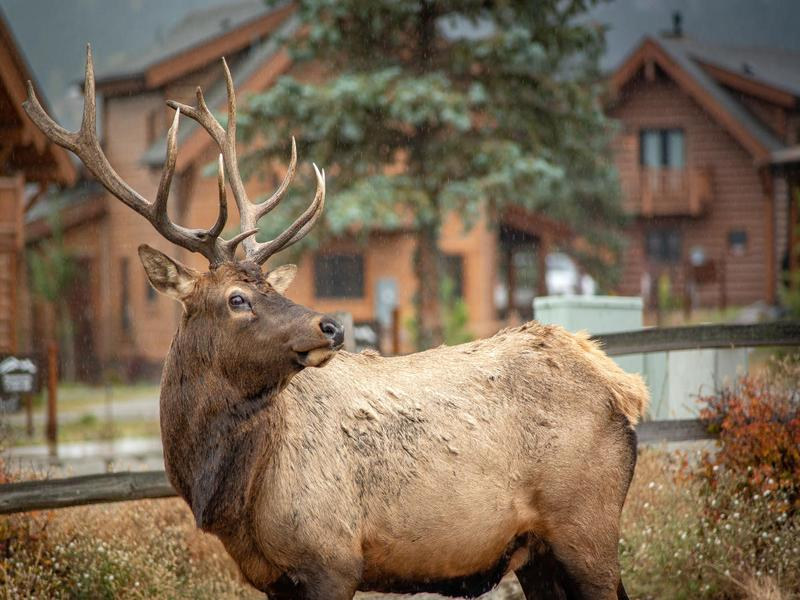elk: (23, 63, 652, 600)
